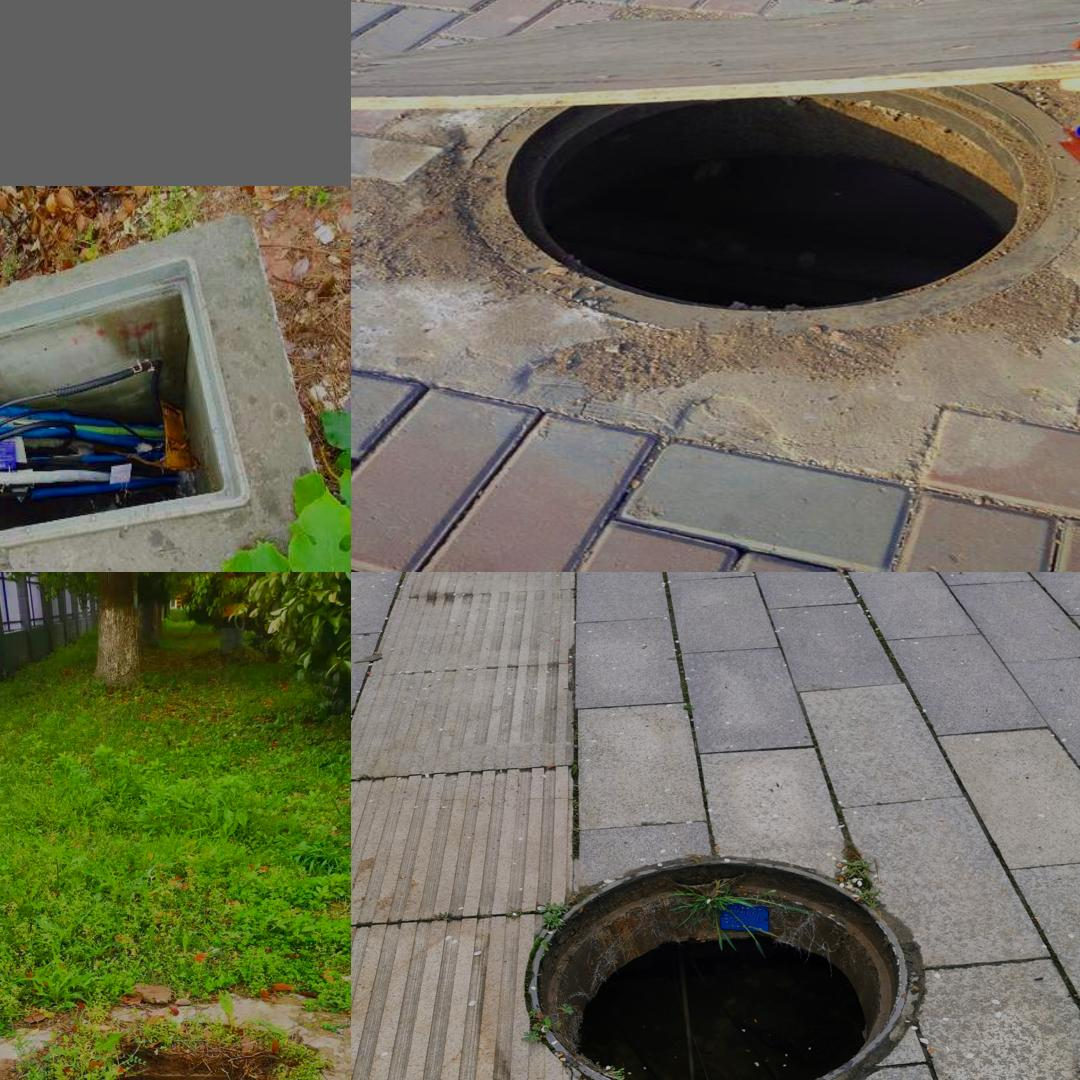lose: (432, 47, 1080, 332), (526, 853, 908, 1080), (0, 255, 250, 566), (92, 1058, 301, 1080)
